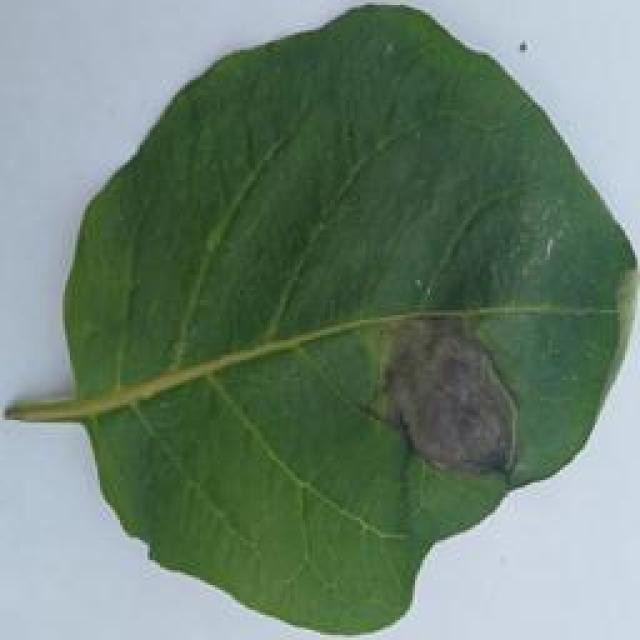Potato_Late_Blight: (15, 10, 623, 632)
